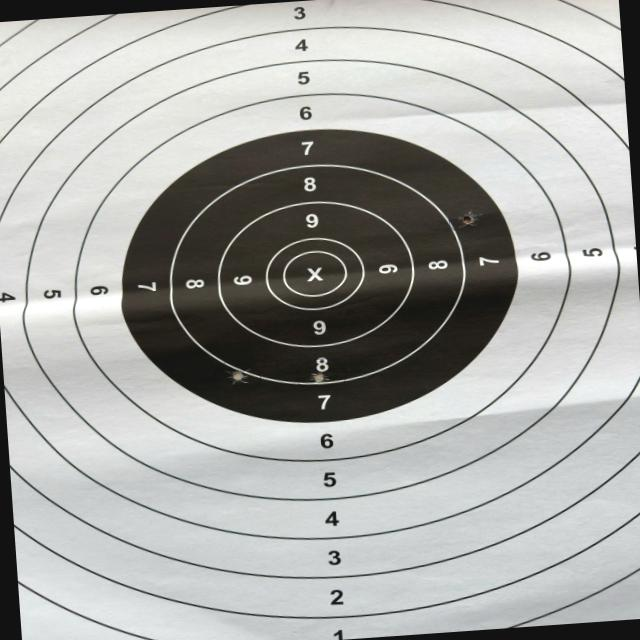bullet: (461, 213, 473, 225), (232, 370, 244, 382), (313, 373, 324, 382)
target: (0, 0, 640, 640)
